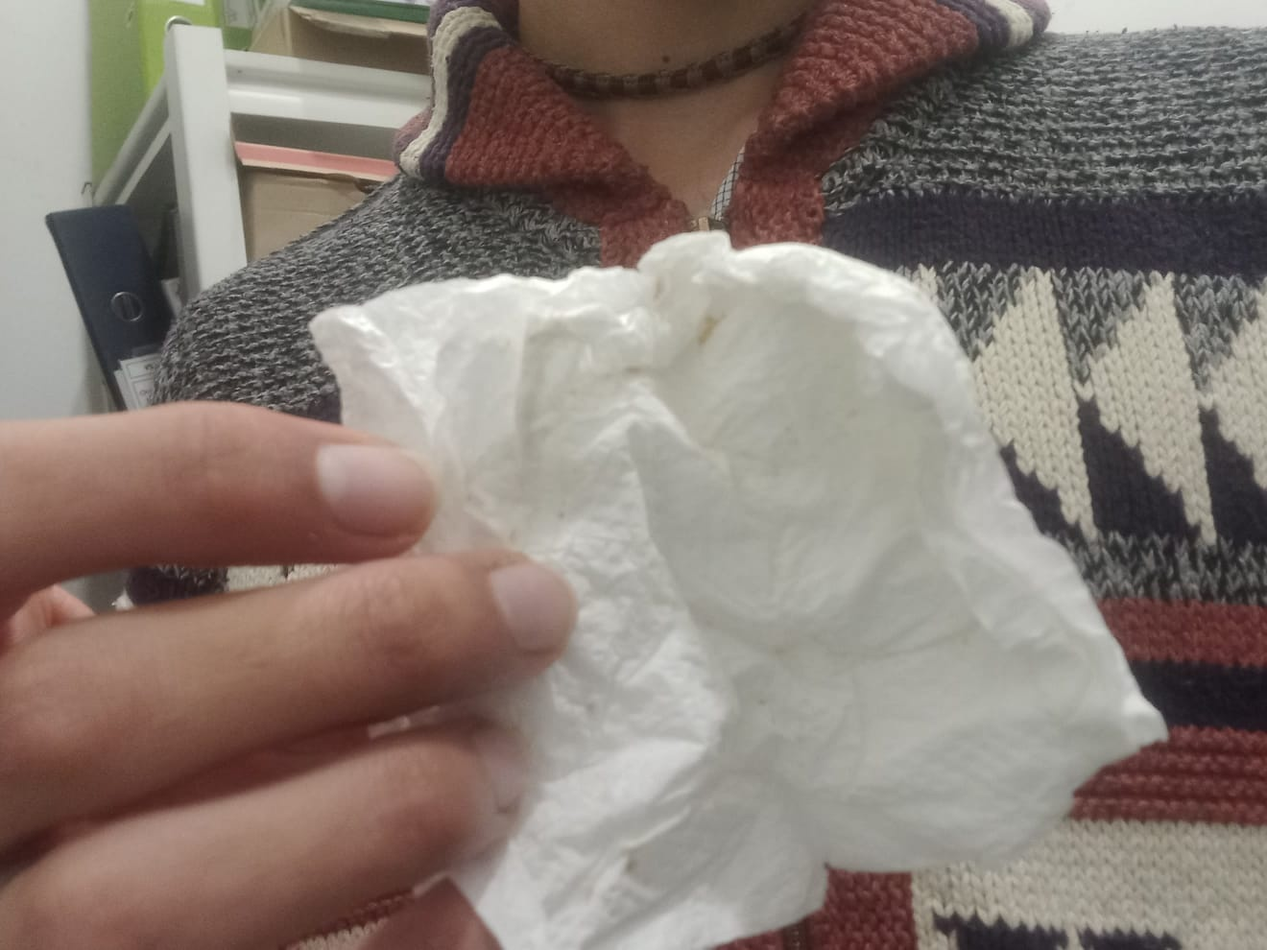Ordinario: (306, 227, 1169, 946)
